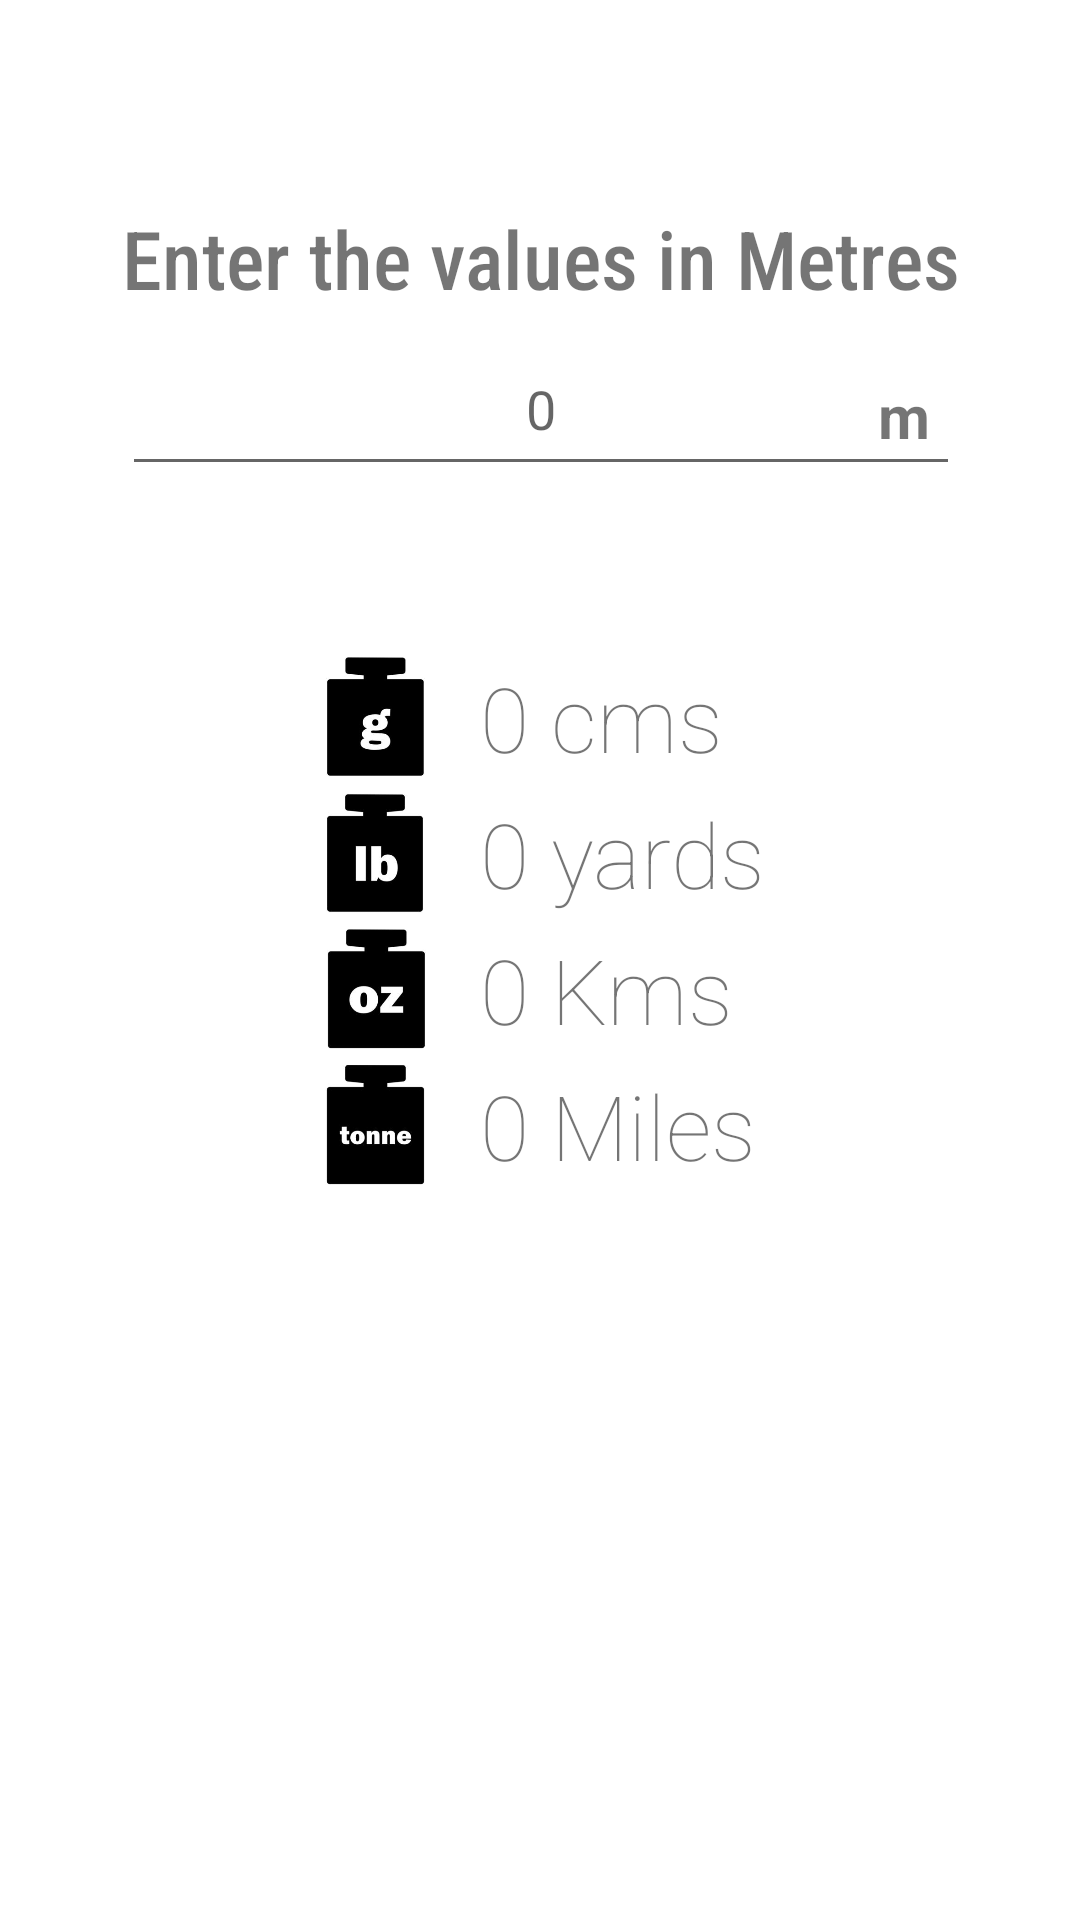

Where icons sit on this 1080*1920 app screen, as box(x1, y1, x2, y2):
gram: box(327, 657, 424, 776)
